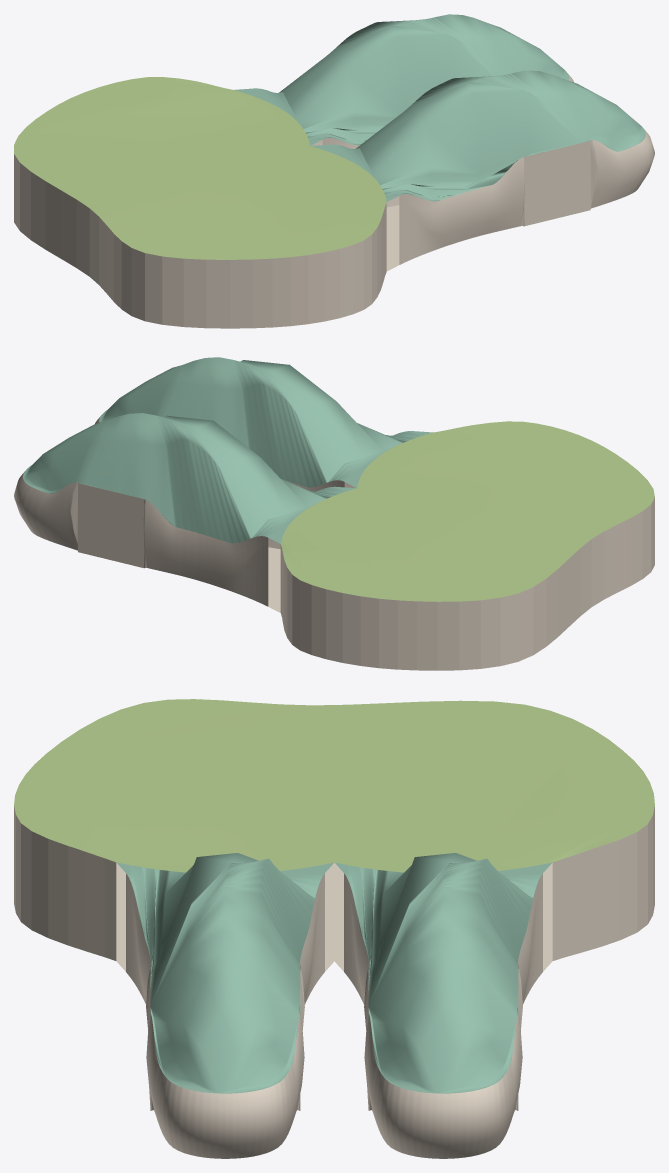
The model's file is split-source.glb.
The picture shows the model from 3 angles, top to bottom: view 1: azimuth 30°, elevation 25°; view 2: azimuth 150°, elevation 25°; view 3: azimuth 270°, elevation 25°; orthographic projection. The views are drawn at different scales.
Visible parts, largest first — view 1: baseline/top, baseline/rounded-coast, seaward-north/top, seaward-south/top, seaward-north/rounded-coast, seaward-north/bank-connection-positive, seaward-north/soil-bottom; view 2: baseline/top, baseline/rounded-coast, seaward-south/top, seaward-north/top, seaward-south/rounded-coast, seaward-south/bank-connection-negative, seaward-south/soil-bottom; view 3: baseline/top, seaward-south/top, seaward-north/top, baseline/rounded-coast, seaward-south/rounded-coast, seaward-north/rounded-coast, baseline/soil-bottom.
Part boxes in pixels (x1,y1,x2,y2): baseline/top: [14, 77, 386, 259]; baseline/rounded-coast: [14, 154, 386, 328]; seaward-north/top: [311, 70, 645, 201]; seaward-south/top: [234, 14, 569, 145]; seaward-north/rounded-coast: [386, 129, 654, 264]; seaward-north/bank-connection-positive: [524, 141, 590, 226]; seaward-north/soil-bottom: [386, 205, 399, 271]; baseline/top: [281, 421, 654, 601]; baseline/rounded-coast: [280, 497, 654, 670]; seaward-south/top: [23, 413, 355, 543]; seaward-north/top: [99, 357, 432, 487]; seaward-south/rounded-coast: [14, 471, 280, 606]; seaward-south/bank-connection-negative: [78, 483, 143, 567]; seaward-south/soil-bottom: [268, 547, 280, 612]; baseline/top: [14, 699, 654, 872]; seaward-south/top: [335, 853, 551, 1093]; seaward-north/top: [117, 853, 333, 1093]; baseline/rounded-coast: [14, 806, 654, 960]; seaward-south/rounded-coast: [344, 873, 542, 1158]; seaward-north/rounded-coast: [126, 873, 324, 1158]; baseline/soil-bottom: [116, 863, 552, 962].
Size of the model in its own units: 8.09 by 1.88 by 5.88.
